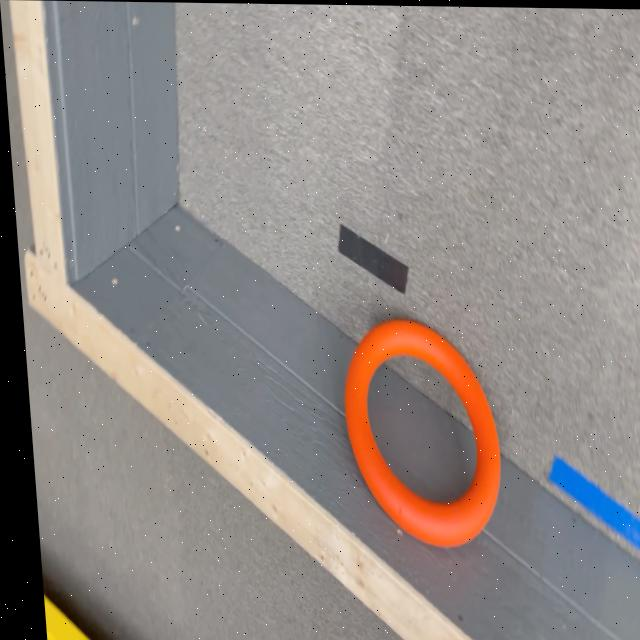note: (333, 316, 498, 546)
